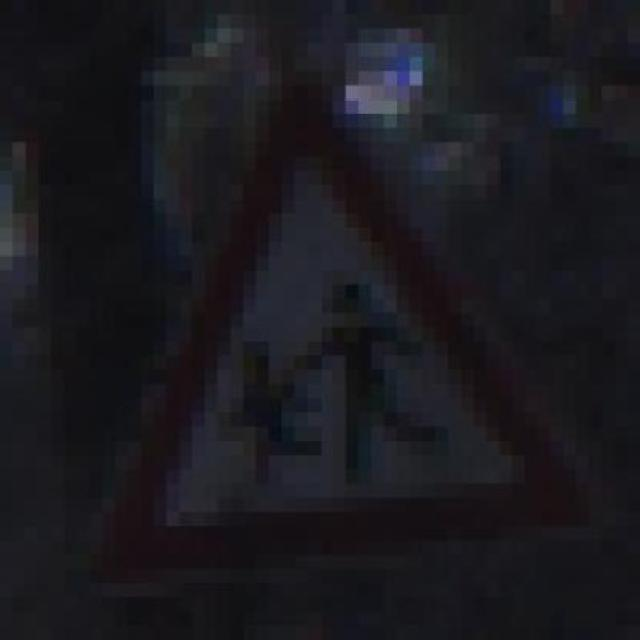Beware of children: (89, 71, 551, 569)
